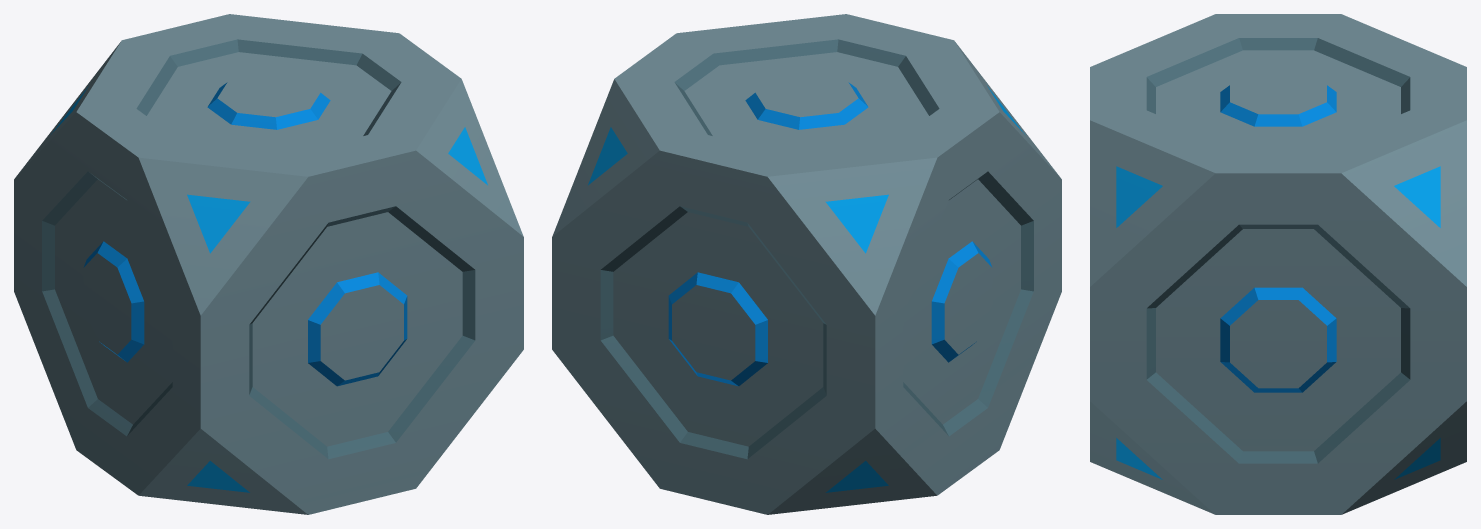
3 views of the same model, side by side, from view 1: azimuth 30°, elevation 25°; view 2: azimuth 150°, elevation 25°; view 3: azimuth 270°, elevation 25° (orthographic).
Visible parts, largest first — view 1: Box_009; view 2: Box_009; view 3: Box_009.
Boxes of the visible parts, box(x1,y1,x2,y2) form: Box_009: box(14, 14, 523, 514); Box_009: box(552, 14, 1061, 514); Box_009: box(1090, 14, 1466, 514).
Size of the model in its own units: 60 by 60 by 60.
